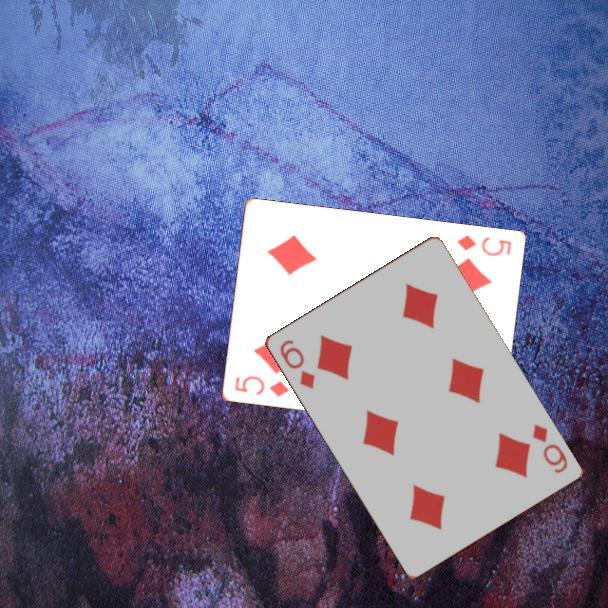d05: (231, 372, 292, 400), (453, 232, 514, 259)
d06: (276, 336, 318, 392), (528, 420, 570, 476)
